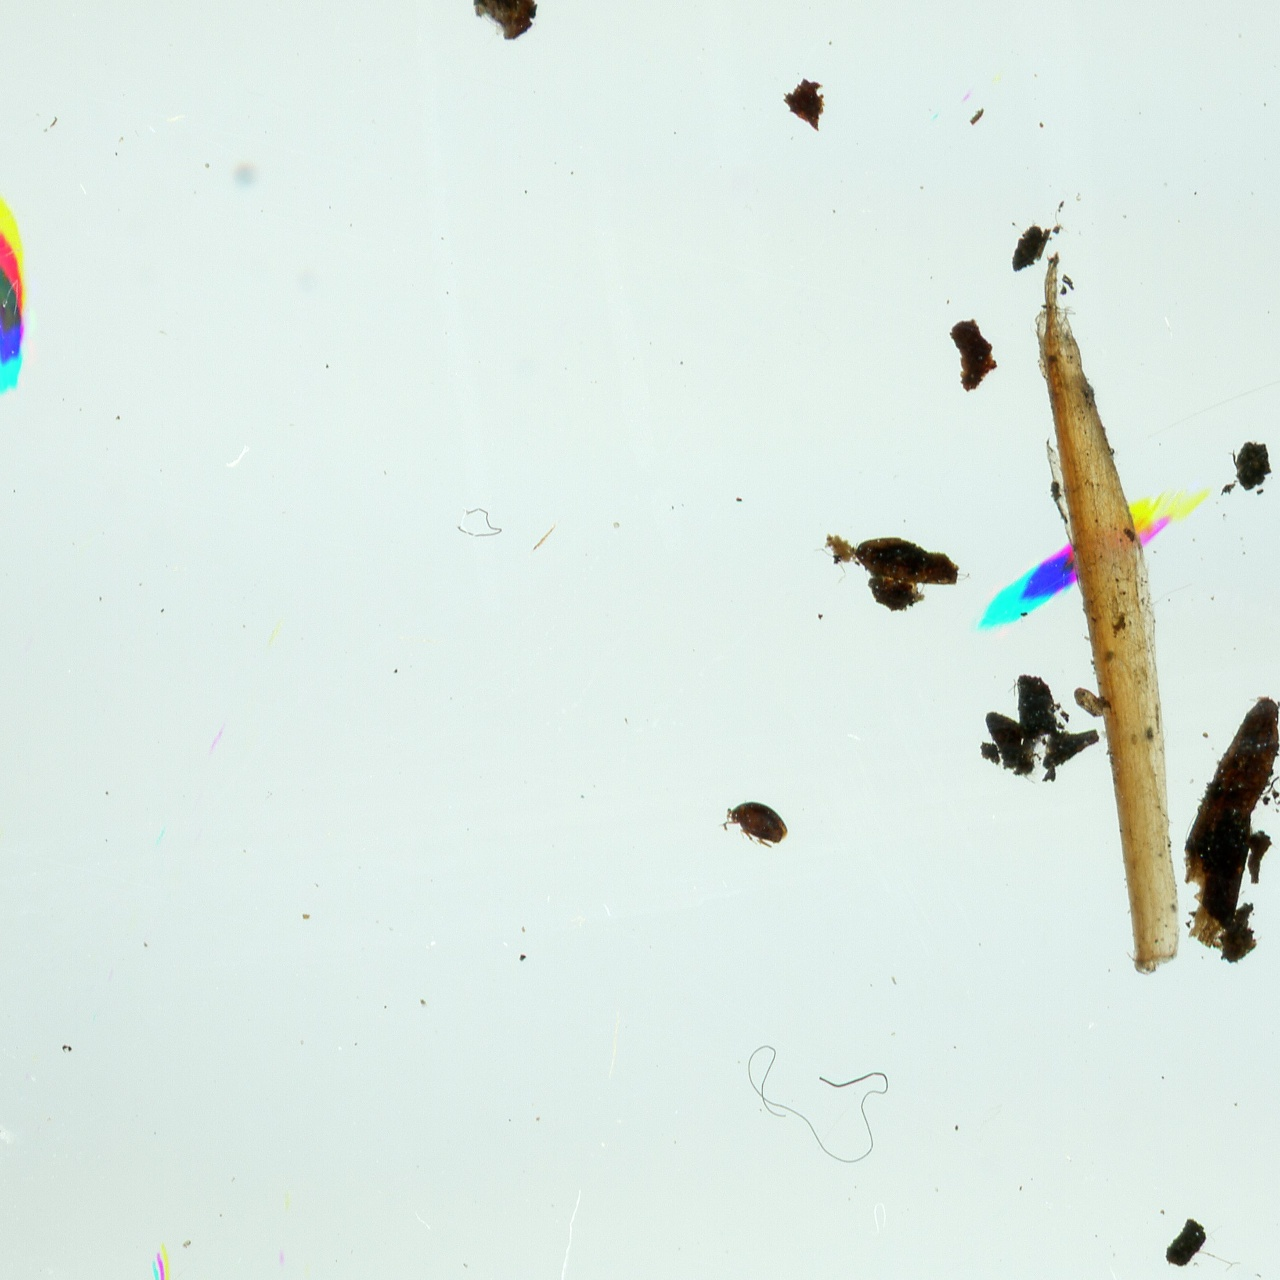arthropod: (0, 195, 29, 397), (719, 801, 792, 851)
